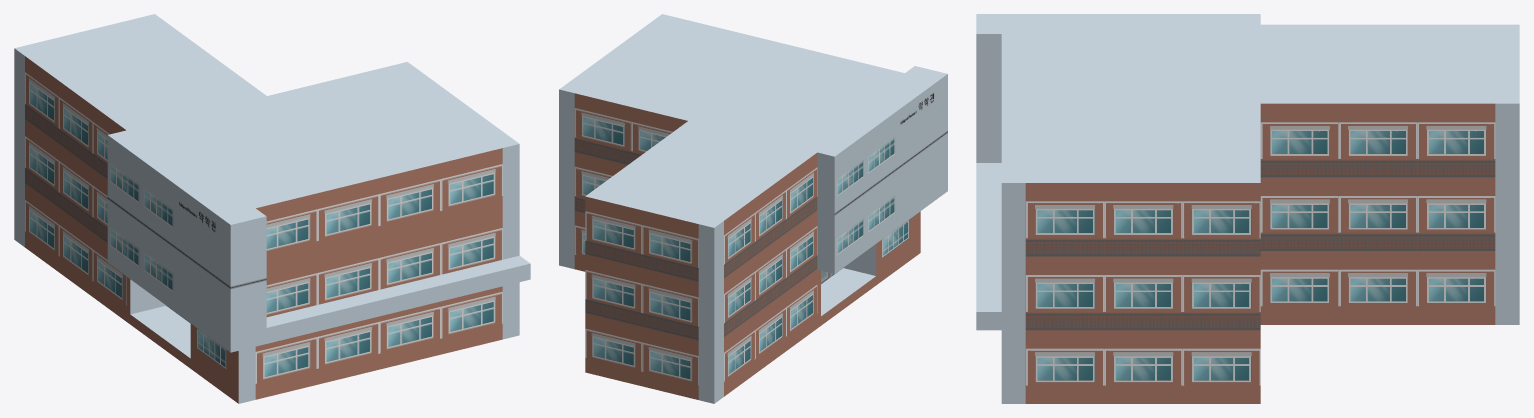
File: building_pharmacy.fbx
3 views of the same model, side by side, from view 1: azimuth 30°, elevation 25°; view 2: azimuth 150°, elevation 25°; view 3: azimuth 270°, elevation 25° (orthographic). The views are drawn at different scales.
Parts seen in each view (by area): view 1: building_pharmacy; view 2: building_pharmacy; view 3: building_pharmacy.
Part boxes in pixels (x1,y1,x2,y2): building_pharmacy: (14,14,530,403); building_pharmacy: (559,14,947,403); building_pharmacy: (976,14,1519,403).
Size of the model in its own units: 3.29 by 2.01 by 4.47.
Materials: 1 (1 with a texture image).
